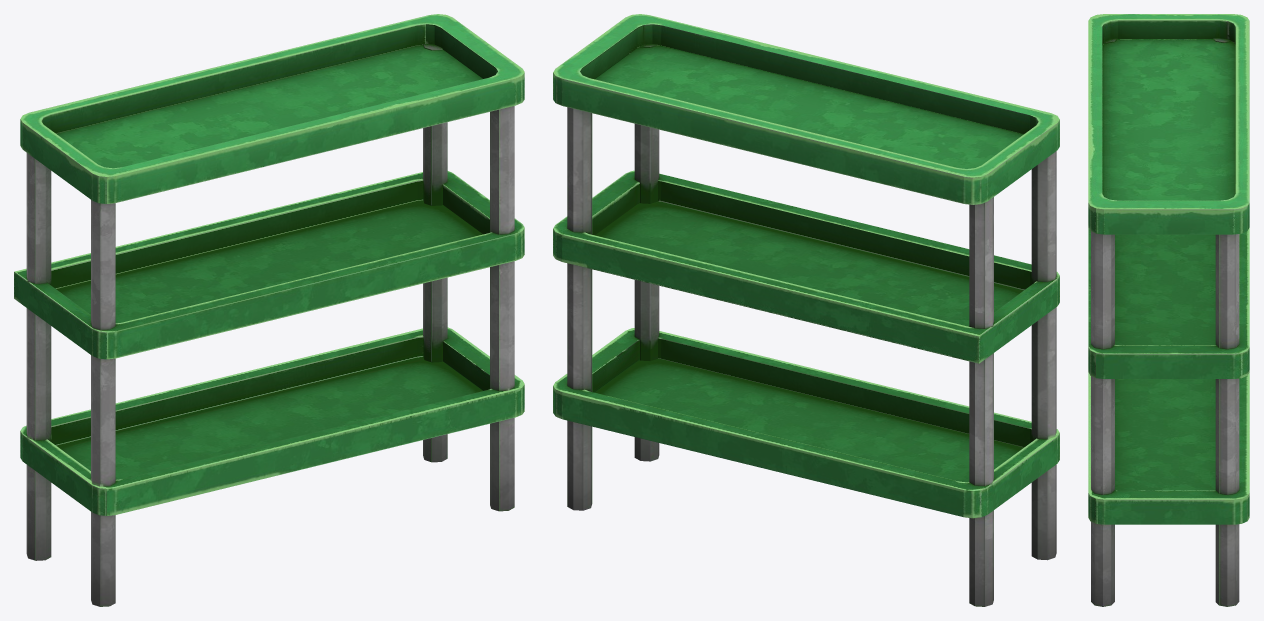
Rendered from Rack.glb.
3 renders of one model, left to right at view 1: azimuth 30°, elevation 25°; view 2: azimuth 150°, elevation 25°; view 3: azimuth 270°, elevation 25°, orthographic. The views are drawn at different scales.
Visible parts, largest first — view 1: Cube.002; view 2: Cube.002; view 3: Cube.002.
Boxes of the visible parts, x1,y1,x2,y2 form: Cube.002: [14, 14, 524, 606]; Cube.002: [553, 14, 1059, 606]; Cube.002: [1088, 14, 1249, 606].
Bounding box in the file's own units: 1.85 × 1.77 × 0.6436.
Materials: 1 (1 with a texture image).
